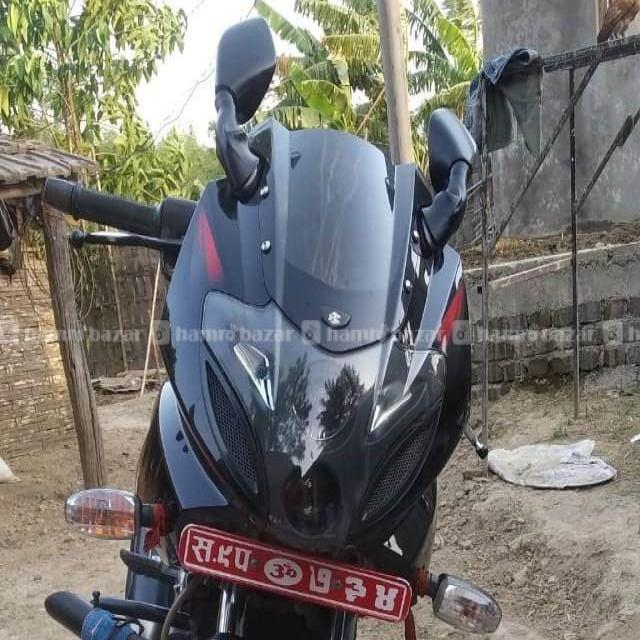License-plate: (180, 523, 413, 623)
